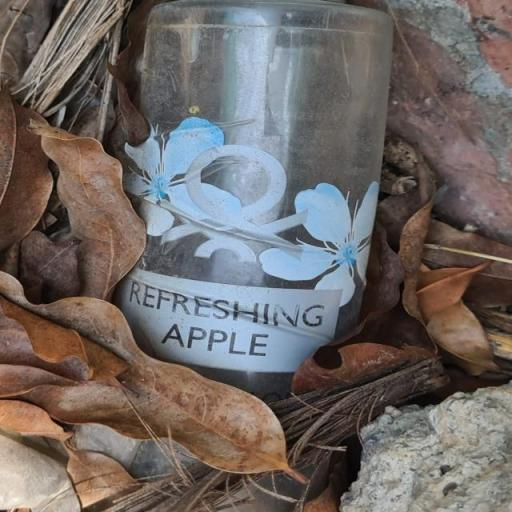glass: (106, 0, 422, 392)
